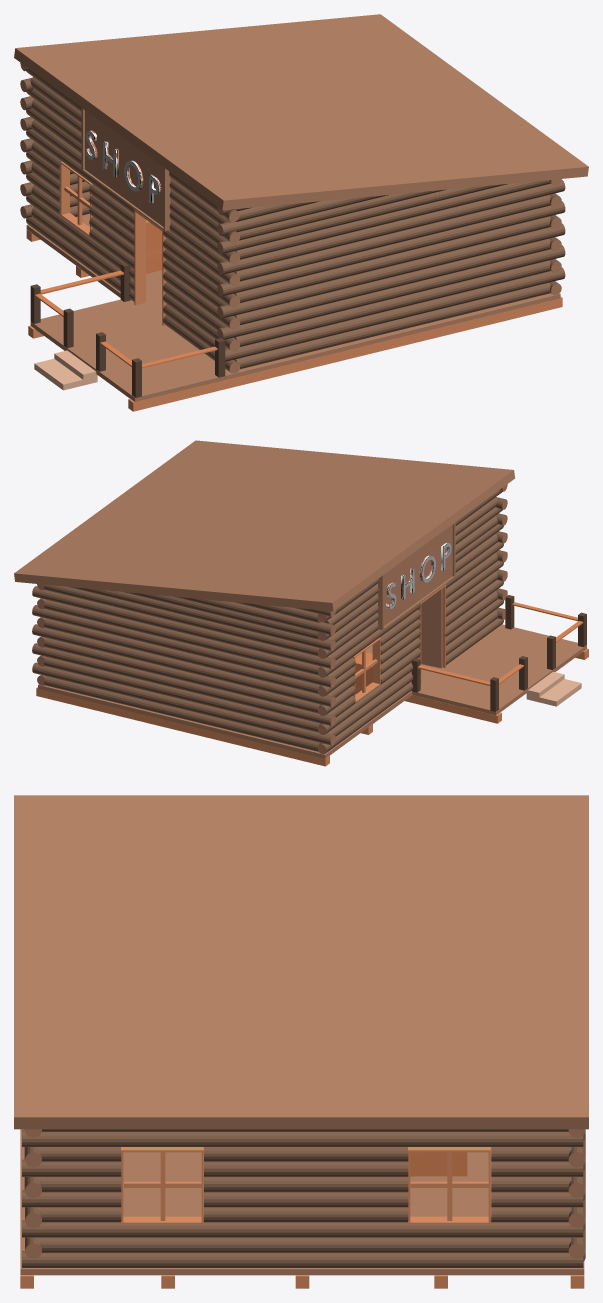
The model's file is Shop.fbx.
The picture shows the model from 3 angles, top to bottom: view 1: azimuth 30°, elevation 25°; view 2: azimuth 150°, elevation 25°; view 3: azimuth 270°, elevation 25°; orthographic projection. The views are drawn at different scales.
Visible parts, largest first — view 1: Roof, Walls, Floor, FloorPillars, RampPillars, Stairs, DoorFrames, Text, s, Windowframes, counter, Stairs.001; view 2: Roof, Walls, Floor, FloorPillars, RampPillars, Door, Stairs, Text, s, Windowframes, DoorFrames; view 3: Roof, Walls, Floor, Windowframes, WindowConnections, counter, FloorPillars.
Part boxes in pixels (x1=…): Roof: x1=14, y1=14, x2=588, y2=231; Walls: x1=20, y1=63, x2=565, y2=373; Floor: x1=26, y1=213, x2=560, y2=401; FloorPillars: x1=26, y1=229, x2=562, y2=411; RampPillars: x1=30, y1=262, x2=225, y2=397; Stairs: x1=34, y1=350, x2=97, y2=390; DoorFrames: x1=134, y1=209, x2=166, y2=325; Text: x1=86, y1=130, x2=161, y2=203; s: x1=35, y1=270, x2=217, y2=368; Windowframes: x1=60, y1=162, x2=92, y2=236; counter: x1=146, y1=220, x2=162, y2=273; Stairs.001: x1=35, y1=358, x2=97, y2=389; Roof: x1=14, y1=440, x2=515, y2=629; Walls: x1=32, y1=484, x2=507, y2=754; Floor: x1=38, y1=624, x2=586, y2=758; FloorPillars: x1=36, y1=648, x2=588, y2=766; RampPillars: x1=411, y1=595, x2=586, y2=711; Door: x1=421, y1=588, x2=442, y2=668; Stairs: x1=526, y1=671, x2=581, y2=706; Text: x1=386, y1=542, x2=451, y2=608; s: x1=417, y1=602, x2=583, y2=685; Windowframes: x1=352, y1=637, x2=380, y2=702; DoorFrames: x1=418, y1=585, x2=445, y2=685; Roof: x1=14, y1=795, x2=588, y2=1129; Walls: x1=22, y1=1129, x2=585, y2=1267; Floor: x1=20, y1=1129, x2=584, y2=1275; Windowframes: x1=121, y1=1147, x2=490, y2=1224; WindowConnections: x1=124, y1=1152, x2=488, y2=1220; counter: x1=410, y1=1152, x2=467, y2=1176; FloorPillars: x1=20, y1=1129, x2=584, y2=1288.
Bounding box in the file's own units: 22549 × 8510 × 16807.
